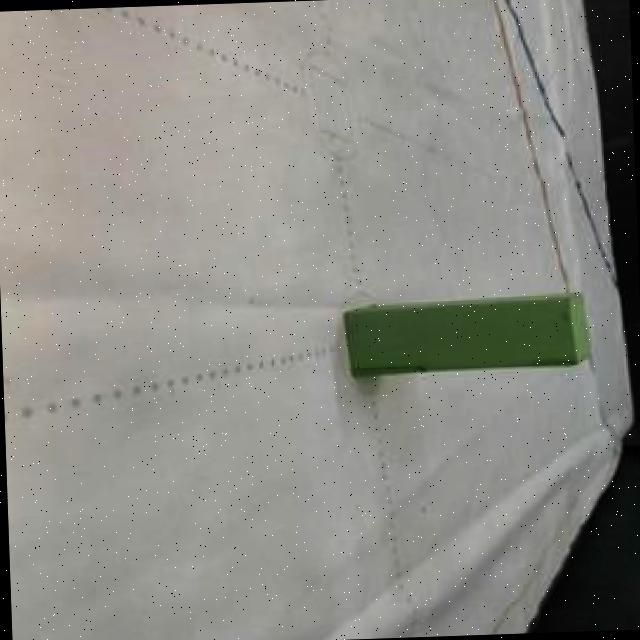greenbox: (340, 292, 594, 373)
